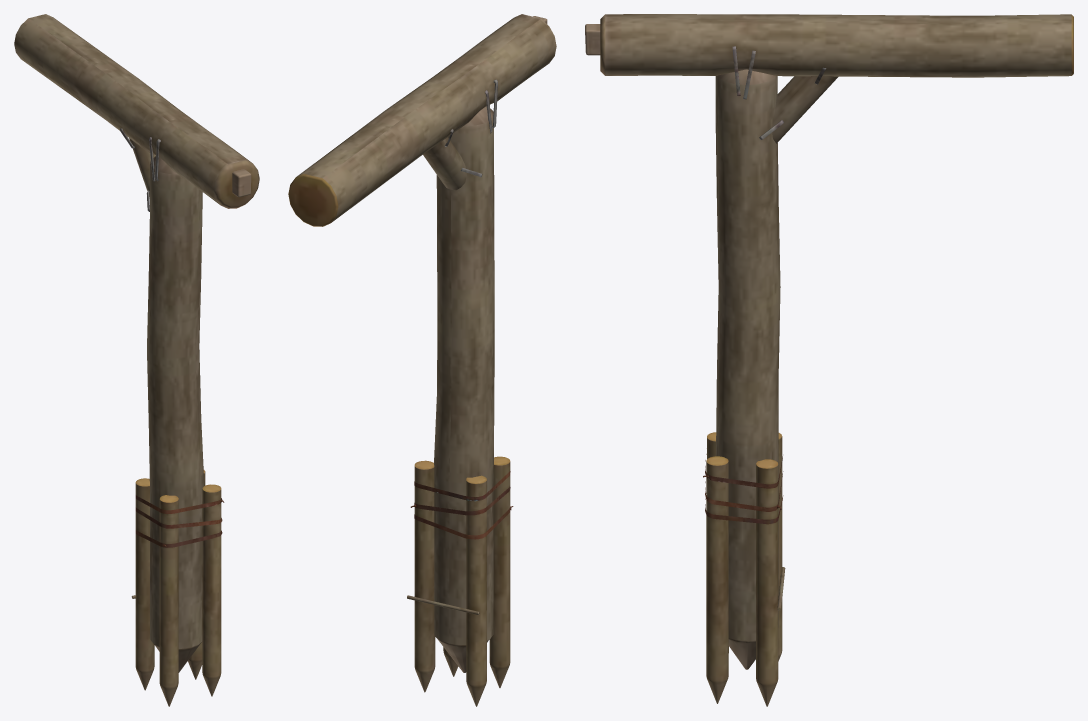
Rendered from SM_NooseTrap_Base_7138e0.glb.
3 renders of one model, left to right at view 1: azimuth 30°, elevation 25°; view 2: azimuth 150°, elevation 25°; view 3: azimuth 270°, elevation 25°, orthographic. The views are drawn at different scales.
Size of the model in its own units: 0.5916 by 4.79 by 3.16.
Materials: 1 (1 with a texture image).
